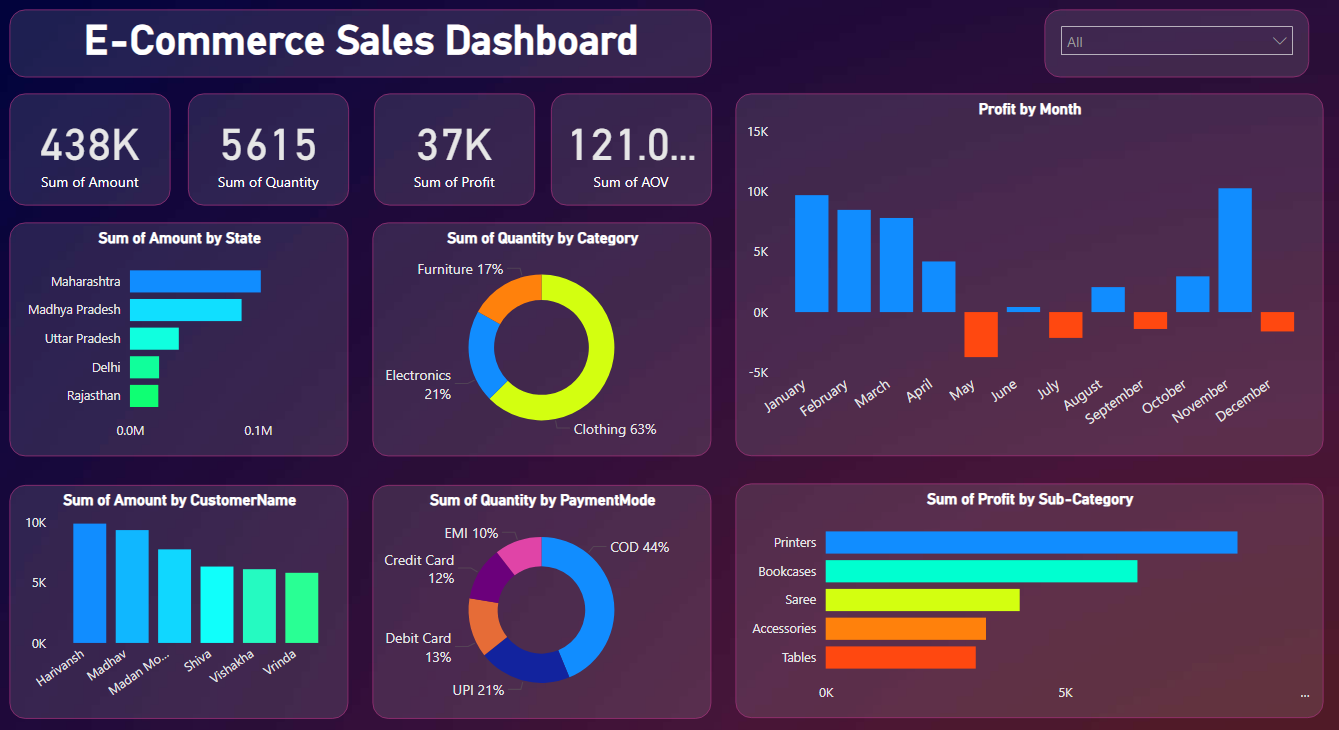

The dashboard page shown, as its layout file describes it:
{"tool":"powerbi","page":{"name":"Page 1","canvas":[1280,720],"ordinal":0},"visuals":[{"type":"textbox","title":"E-Commerce Sales Dashboard","box":[10.4,10.4,668.8,64.6],"z":0},{"type":"columnChart","title":"Profit by Month","fields":{"Category":["Orders.Order Date.Variation.Date Hierarchy.Month"],"Y":["Details.Profit"]},"box":[701.7,90,560,345],"z":1000},{"type":"barChart","fields":{"Category":["Details.Sub-Category"],"Y":["Details.Profit"]},"box":[701.7,461.7,560,223.3],"z":2000},{"type":"donutChart","fields":{"Category":["Details.Category"],"Y":["Details.Quantity"]},"box":[356.2,212.5,322.9,222.9],"z":3000},{"type":"donutChart","fields":{"Category":["Details.PaymentMode"],"Y":["Details.Quantity"]},"box":[356.2,462.5,322.9,222.9],"z":4000},{"type":"card","fields":{"Values":["Details.Amount"]},"box":[10,90,153.3,106.7],"z":5000},{"type":"card","fields":{"Values":["Details.Quantity"]},"box":[180,90,153.3,106.7],"z":6000},{"type":"card","fields":{"Values":["Details.Profit"]},"box":[356.7,90,153.3,106.7],"z":7000},{"type":"card","fields":{"Values":["Details.AOV"]},"box":[525,90,153.3,106.7],"z":8000},{"type":"barChart","fields":{"Category":["Orders.State"],"Y":["Details.Amount"]},"box":[10.4,212.5,322.9,222.9],"z":9000},{"type":"columnChart","fields":{"Category":["Orders.CustomerName"],"Y":["Details.Amount"]},"box":[10.4,462.5,322.9,222.9],"z":10000},{"type":"slicer","fields":{"Values":["Orders.State"]},"box":[995.8,10.4,252.1,64.6],"z":12000}]}

Visuals, with their boxes on the page's 1280x720 design canvas (x1, y1, x2, y2). These are canvas units, not pixel positions in the 1339x730 screenshot, which may show the page scaled, cropped or inside an application window:
"E-Commerce Sales Dashboard" textbox: (left=10, top=10, right=679, bottom=75)
"Profit by Month" columnChart: (left=702, top=90, right=1262, bottom=435)
barChart - Details.Sub-Category x Details.Profit: (left=702, top=462, right=1262, bottom=685)
donutChart - Details.Category x Details.Quantity: (left=356, top=212, right=679, bottom=435)
donutChart - Details.PaymentMode x Details.Quantity: (left=356, top=462, right=679, bottom=685)
card - Details.Amount: (left=10, top=90, right=163, bottom=197)
card - Details.Quantity: (left=180, top=90, right=333, bottom=197)
card - Details.Profit: (left=357, top=90, right=510, bottom=197)
card - Details.AOV: (left=525, top=90, right=678, bottom=197)
barChart - Orders.State x Details.Amount: (left=10, top=212, right=333, bottom=435)
columnChart - Orders.CustomerName x Details.Amount: (left=10, top=462, right=333, bottom=685)
slicer - Orders.State: (left=996, top=10, right=1248, bottom=75)
